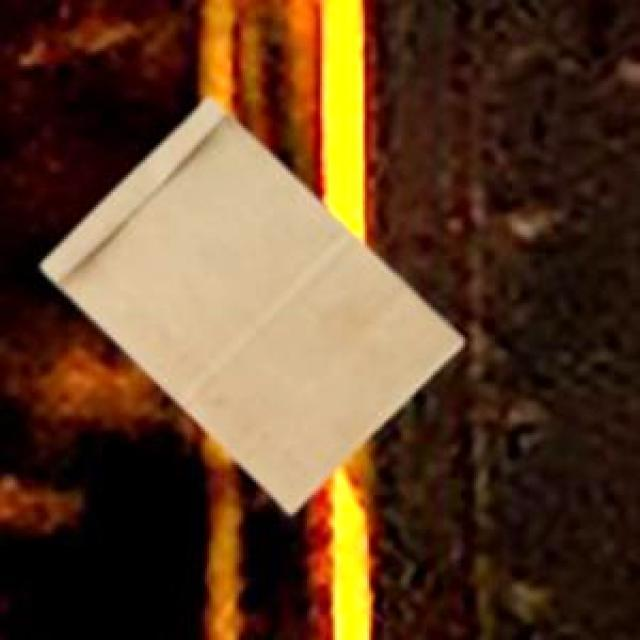Paper_Bag: (39, 95, 460, 511)
